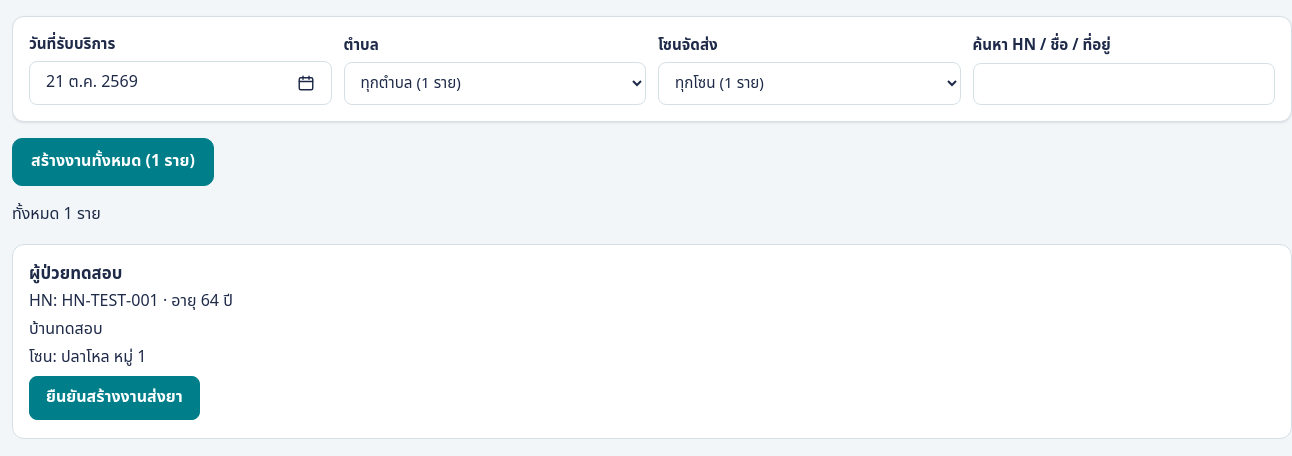
Test case: loads HOSxP candidates and lets pharmacy confirm one
Expected: the heading "ผู้ป่วยทดสอบ" is shown, [29,260,122,286]
Click the button "ยืนยันสร้างงานส่งยา": (114, 398) [29,376,200,420]
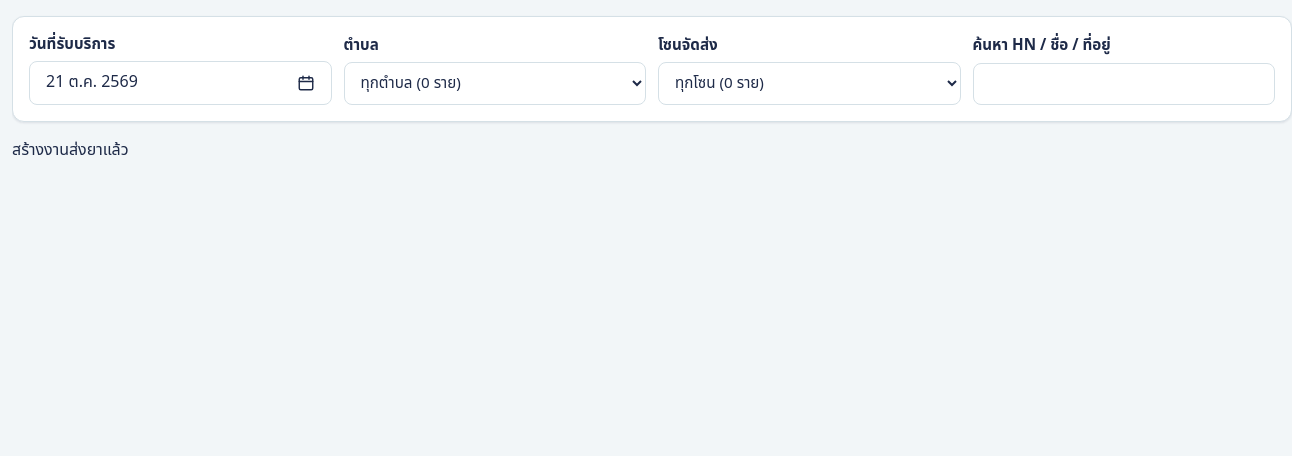
Expected: the text "สร้างงานส่งยาแล้ว" is shown, [12,138,129,162]
